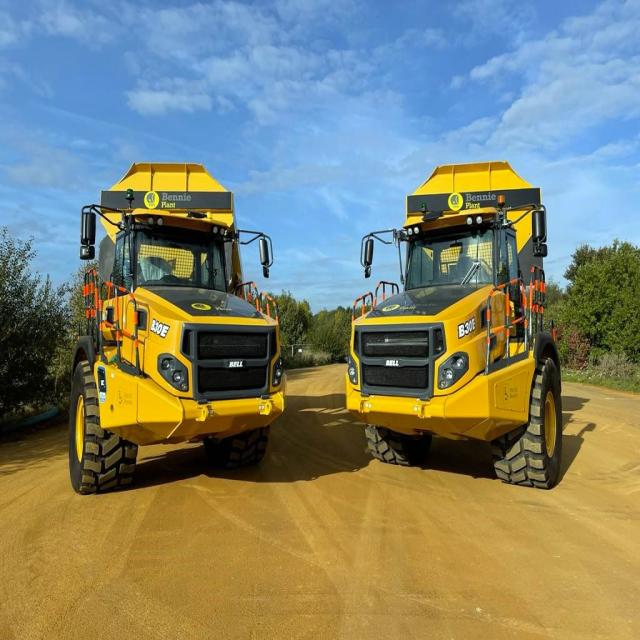dump_truck: (39, 145, 290, 520), (326, 137, 581, 495)
